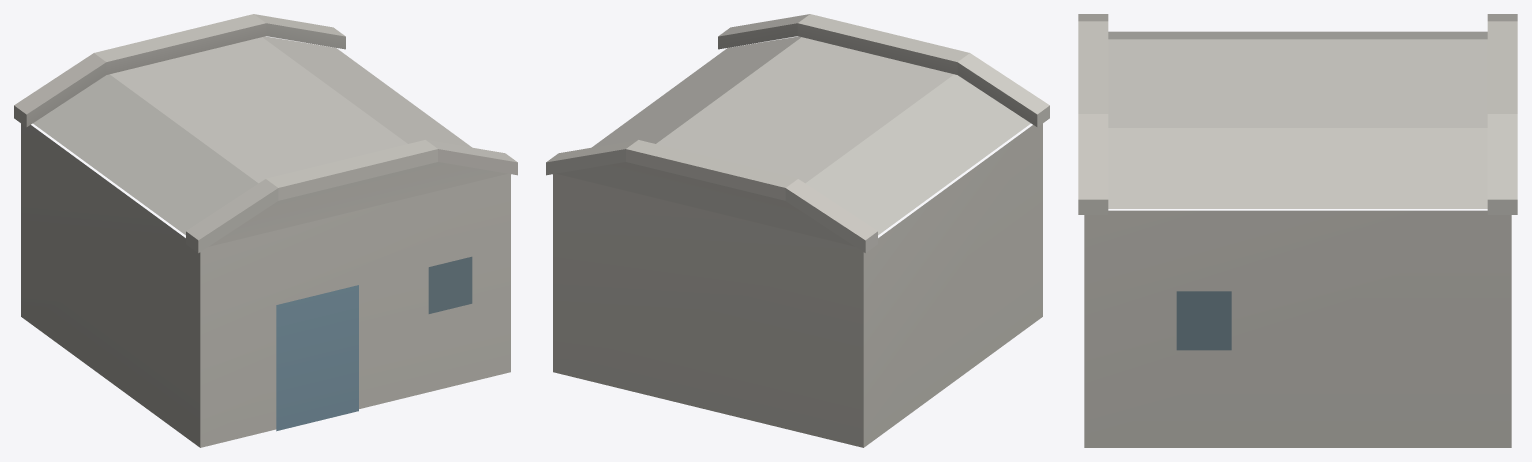
Rendered from cave1.lod2.glb.
3 views of the same model, side by side, from view 1: azimuth 30°, elevation 25°; view 2: azimuth 150°, elevation 25°; view 3: azimuth 270°, elevation 25° (orthographic). The views are drawn at different scales.
Bounding box in the file's own units: 4.4 × 3.2 × 4.4.
